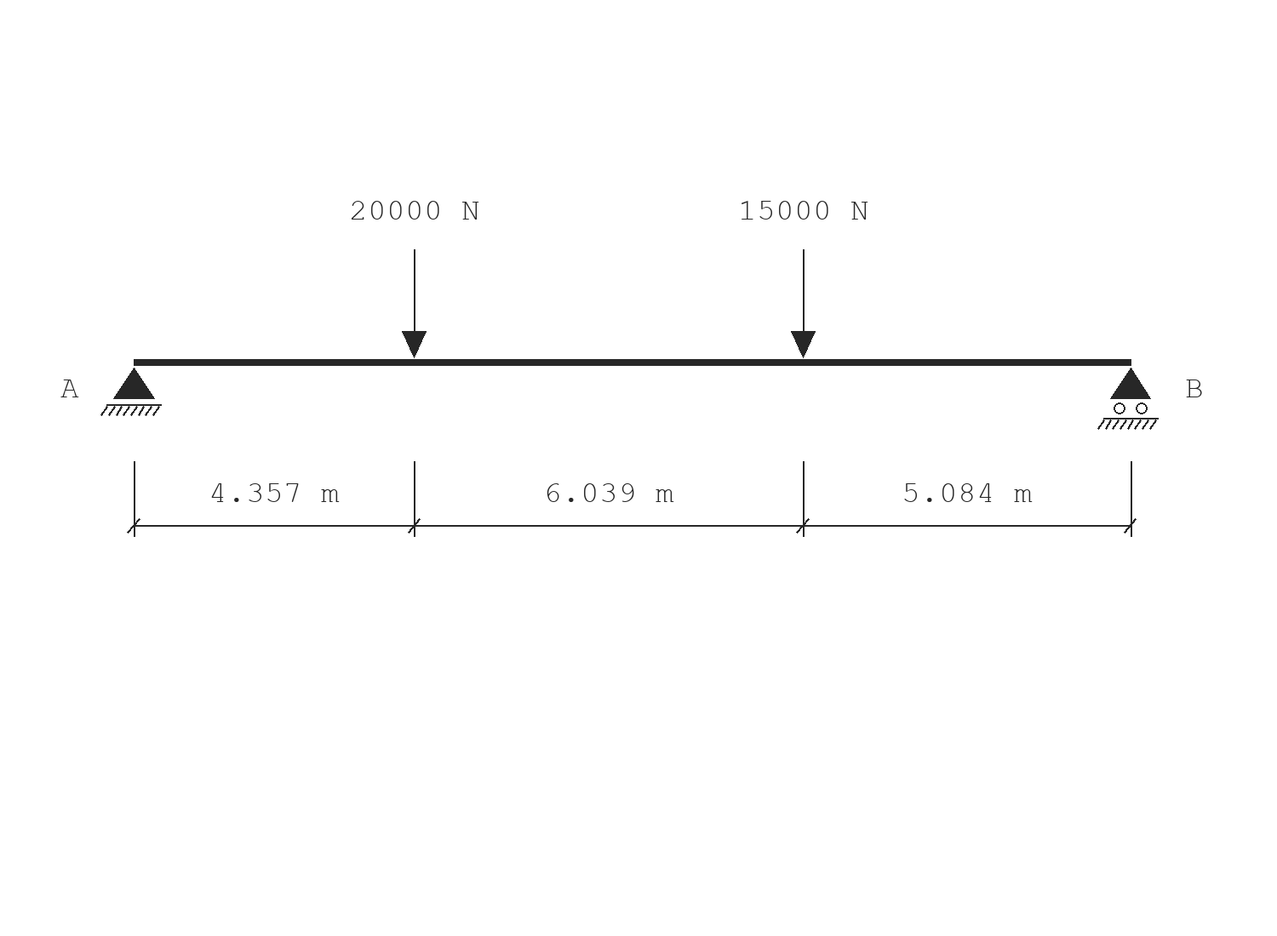pin_support: (100, 368, 162, 416)
point_load: (402, 249, 427, 358), (791, 249, 816, 358)
roller_support: (1097, 368, 1159, 430)
